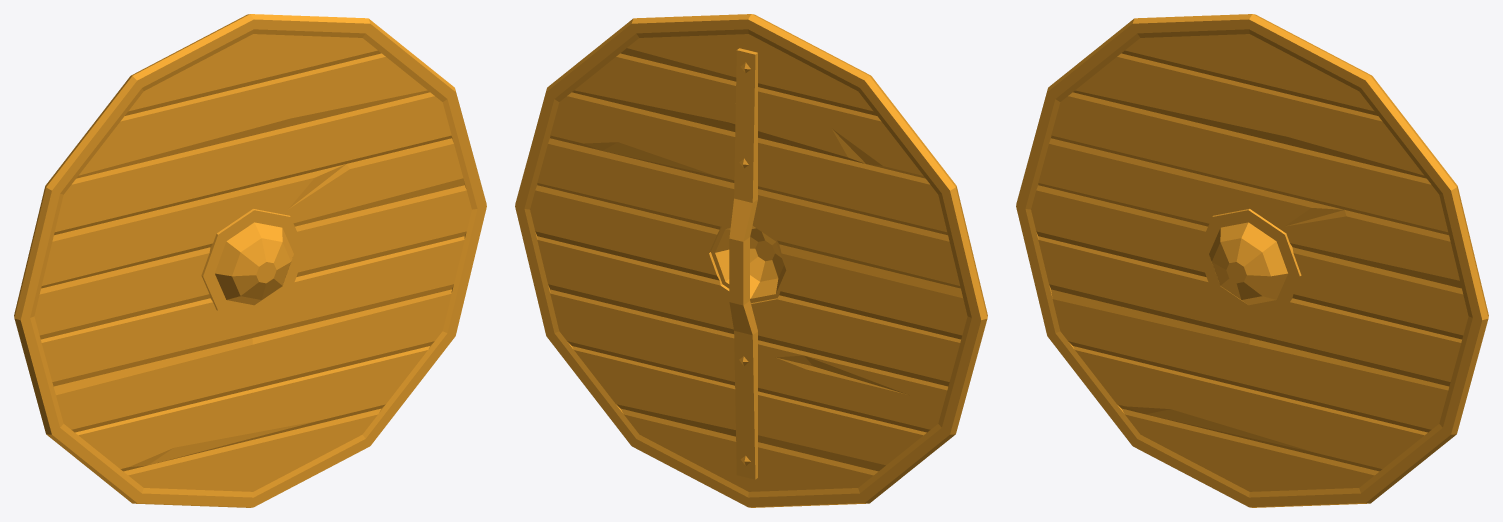
The model's file is SM_Shield_Round_A.fbx.
3 views of the same model, side by side, from view 1: azimuth 30°, elevation 25°; view 2: azimuth 150°, elevation 25°; view 3: azimuth 330°, elevation 25° (orthographic).
Visible parts, largest first — view 1: shield-round-a; view 2: shield-round-a; view 3: shield-round-a.
Part boxes in pixels (x1=…): shield-round-a: x1=14, y1=14, x2=486, y2=507; shield-round-a: x1=515, y1=14, x2=987, y2=507; shield-round-a: x1=1016, y1=14, x2=1488, y2=507.
Bounding box in the file's own units: 1.01 × 1.01 × 0.1152.
